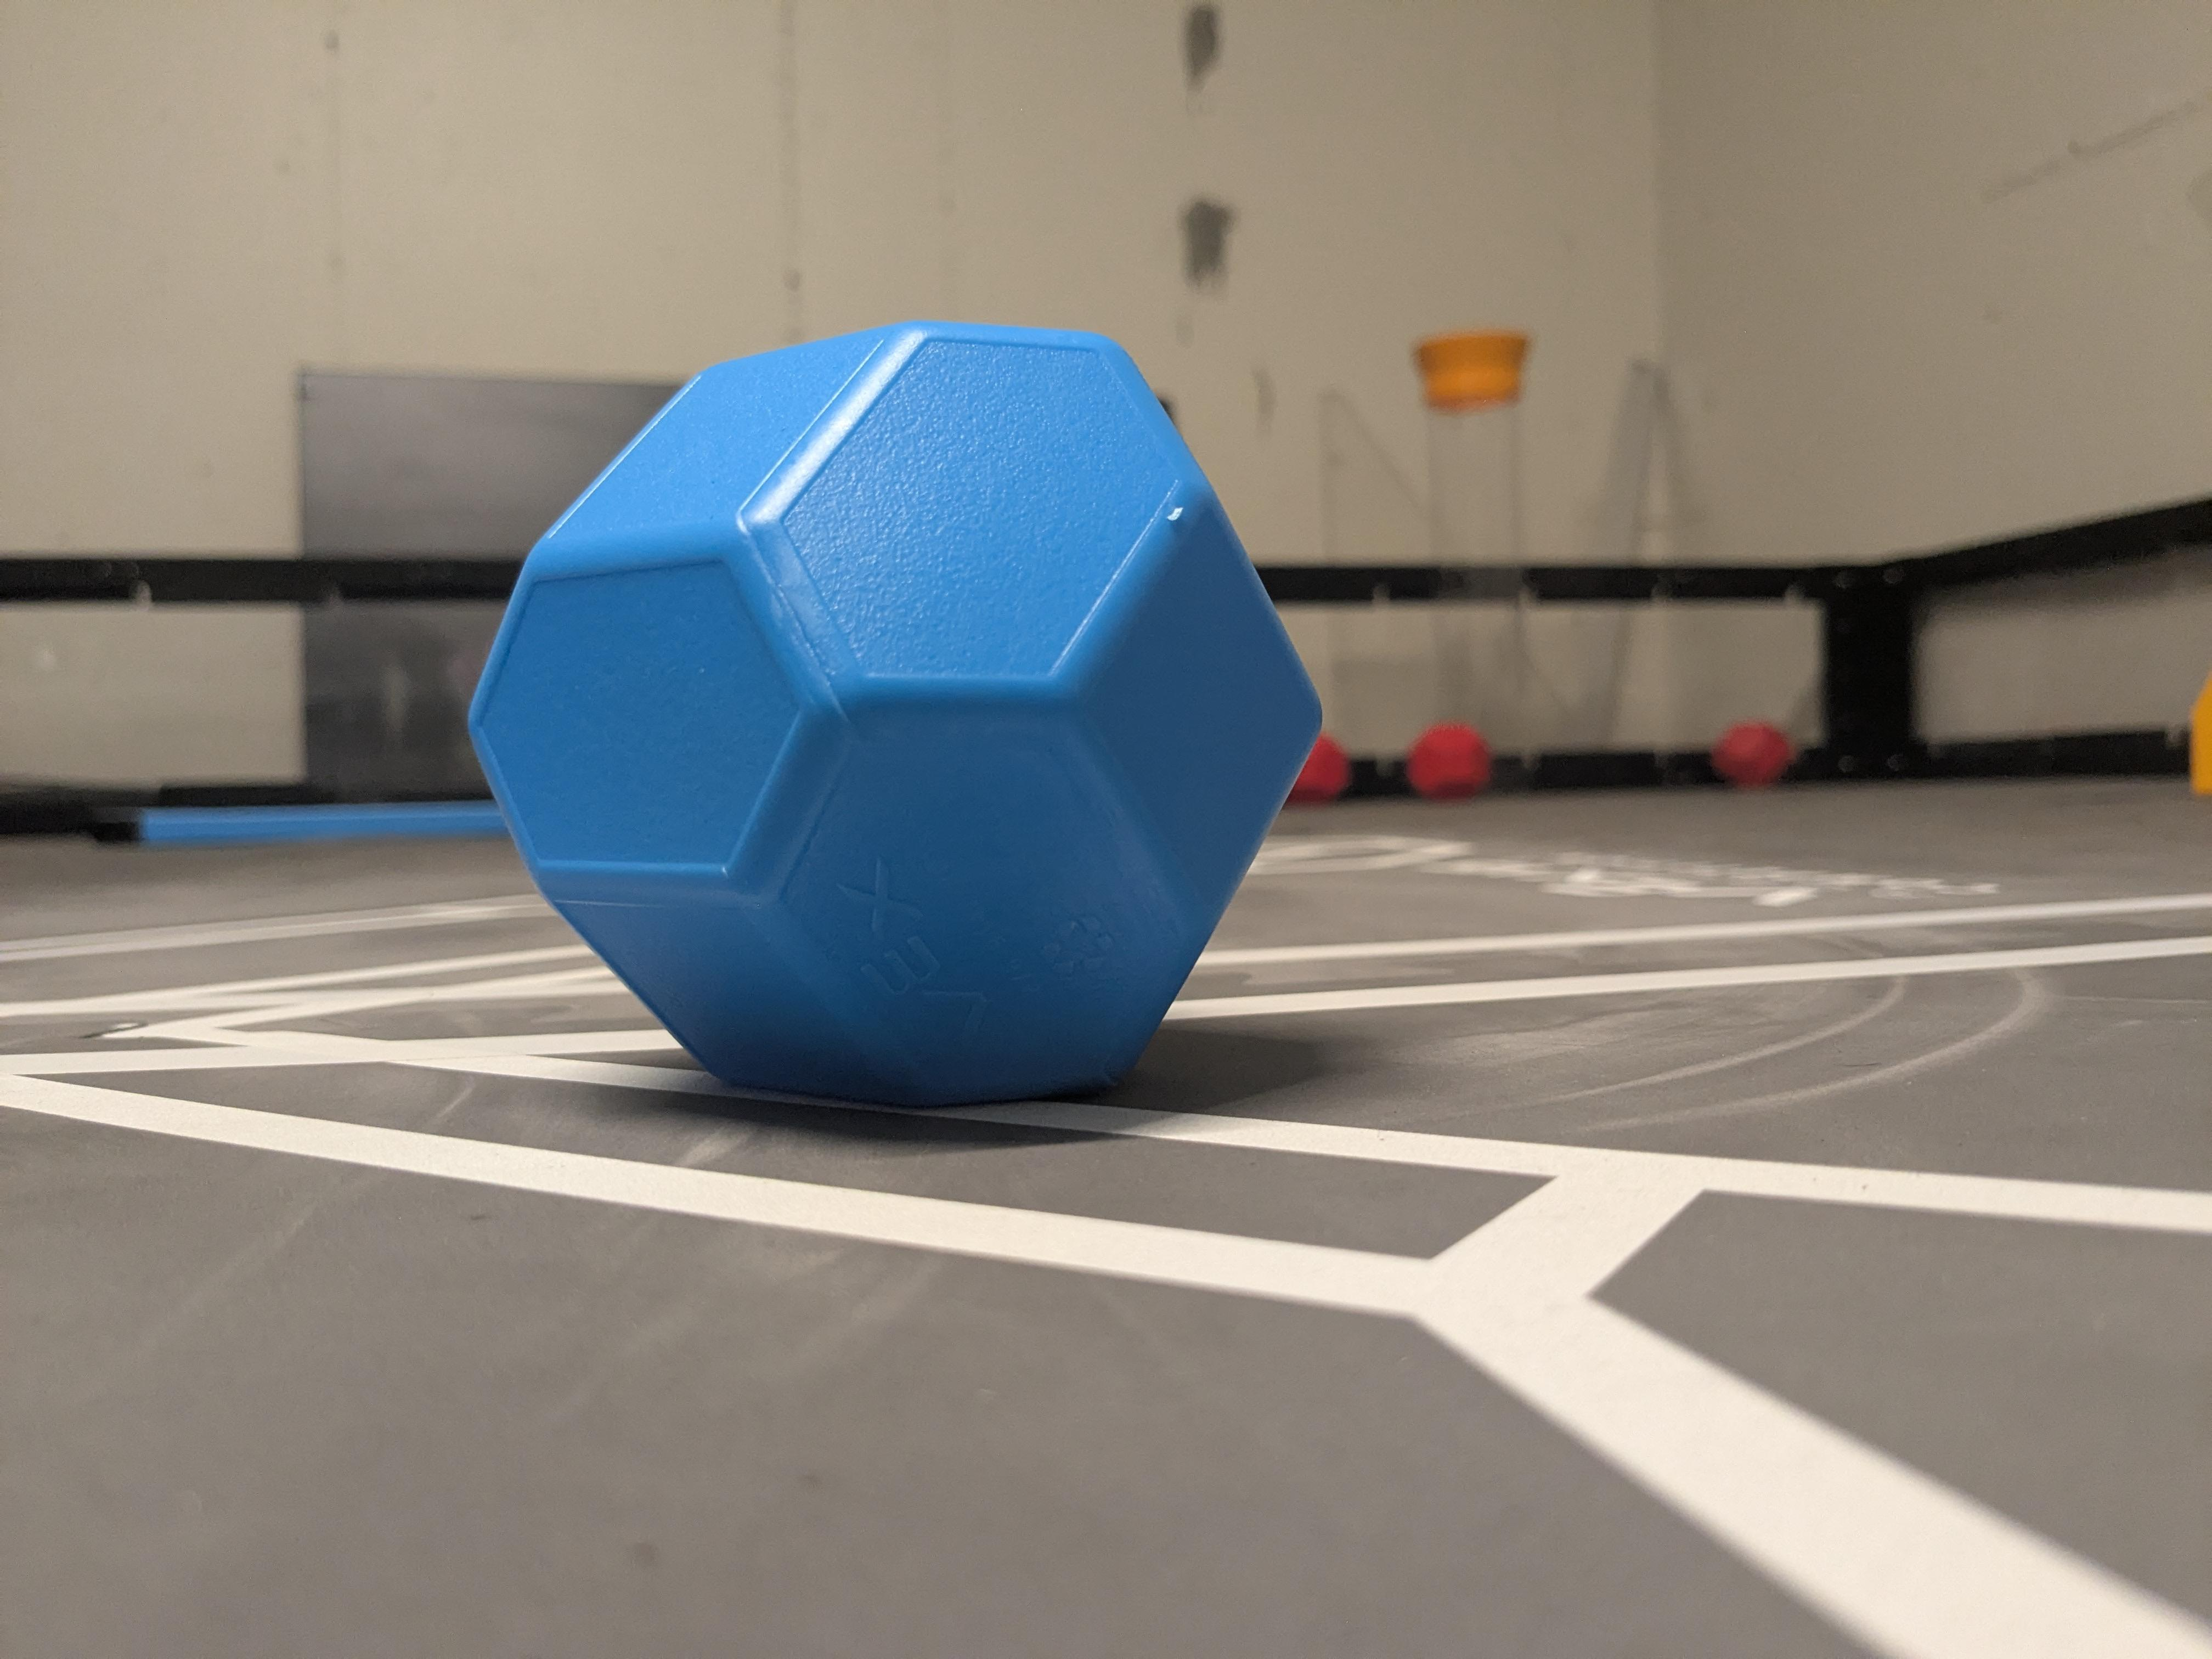Vex-Pieces-BLUE: (479, 329, 1334, 1122)
